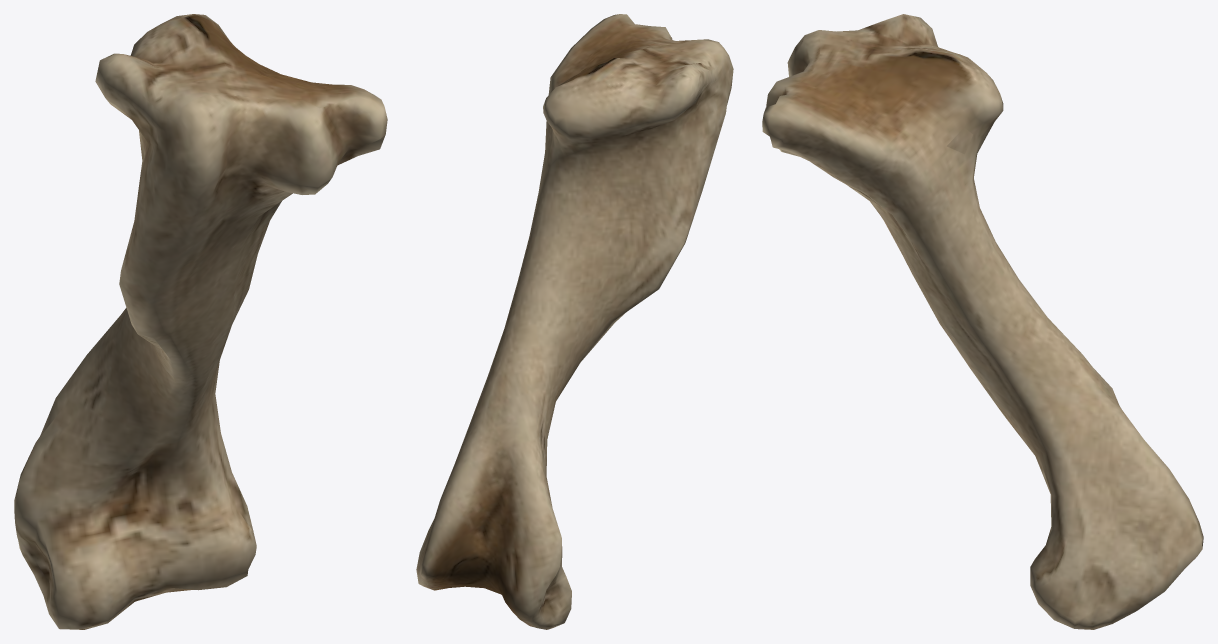
The model's file is Humerus.glb.
3 views of the same model, side by side, from view 1: azimuth 30°, elevation 25°; view 2: azimuth 150°, elevation 25°; view 3: azimuth 270°, elevation 25° (orthographic). The views are drawn at different scales.
Parts seen in each view (by area): view 1: R_Frt_Humerus; view 2: R_Frt_Humerus; view 3: R_Frt_Humerus.
Boxes of the visible parts, x1,y1,x2,y2 form: R_Frt_Humerus: [14, 14, 387, 629]; R_Frt_Humerus: [416, 14, 733, 629]; R_Frt_Humerus: [762, 14, 1203, 629].
Bounding box in the file's own units: 0.108 × 0.2873 × 0.2101.
1 material, 1 textured.
